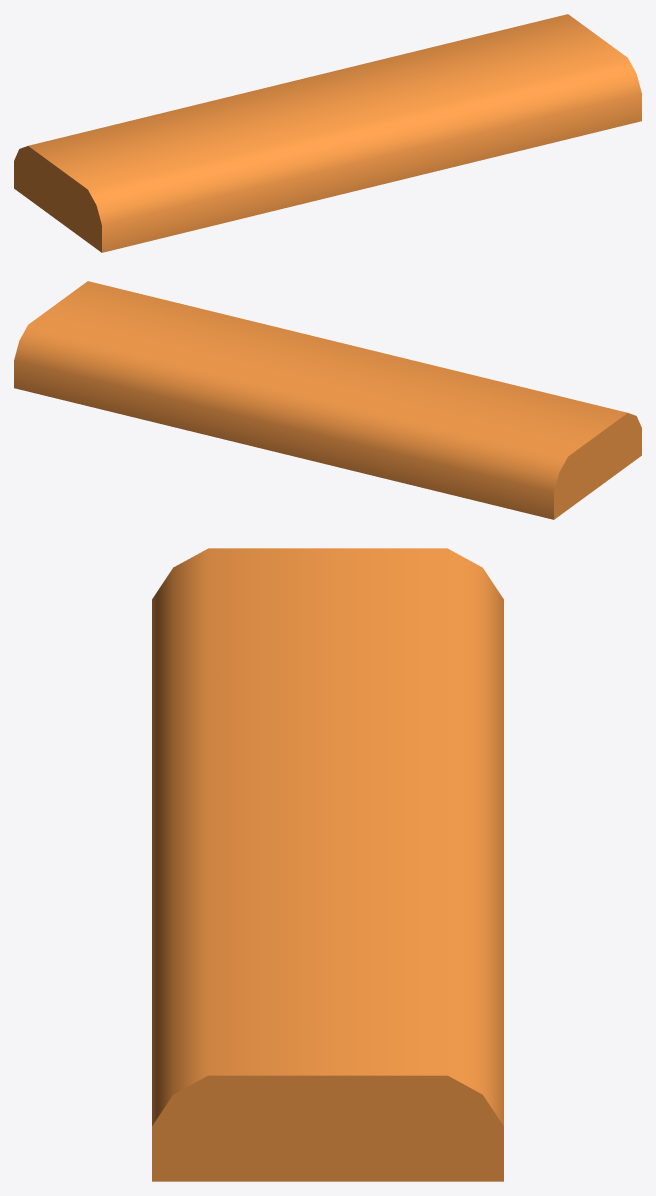
Rendered from SM_BordSas.fbx.
3 views of the same model, one above another, from view 1: azimuth 30°, elevation 25°; view 2: azimuth 150°, elevation 25°; view 3: azimuth 270°, elevation 25° (orthographic). The views are drawn at different scales.
Visible parts, largest first — view 1: SM_BordSas; view 2: SM_BordSas; view 3: SM_BordSas.
Part boxes in pixels (x1,y1,x2,y2): SM_BordSas: (14, 14, 641, 252); SM_BordSas: (14, 281, 641, 519); SM_BordSas: (152, 548, 503, 1181).
Bounding box in the file's own units: 252 × 23.66 × 71.15.
